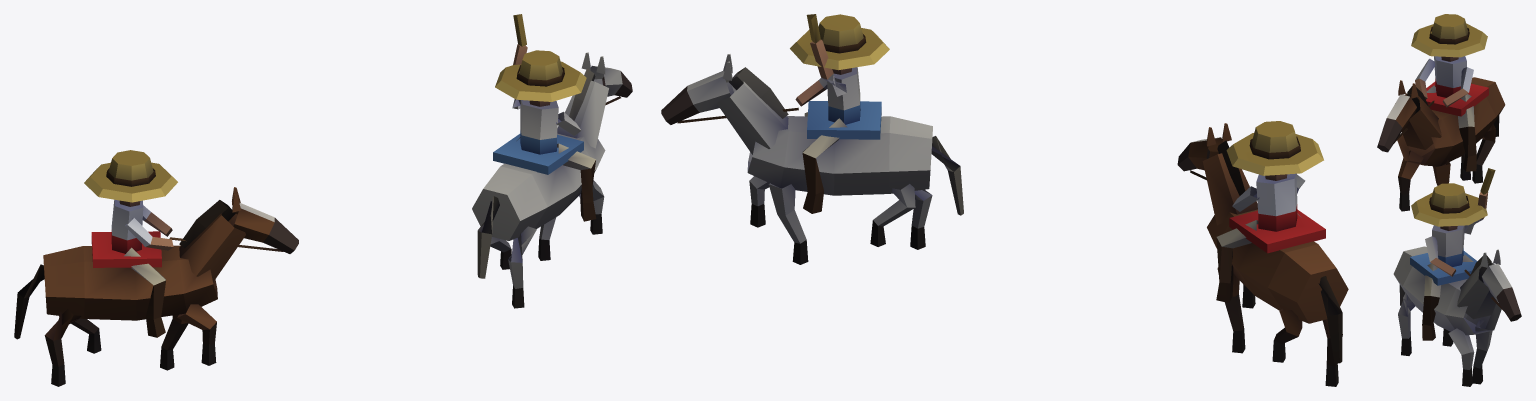
Rendered from llanero_caballo.glb.
The picture shows the model from 3 angles, left to right: view 1: azimuth 30°, elevation 25°; view 2: azimuth 150°, elevation 25°; view 3: azimuth 270°, elevation 25°; orthographic projection. The views are drawn at different scales.
Parts seen in each view (by area): view 1: llanero_a, llanero_b; view 2: llanero_b, llanero_a; view 3: llanero_b, llanero_a.
Boxes of the visible parts, left/top/right/bottom form: llanero_a: left=14, top=150, right=298, bottom=386; llanero_b: left=472, top=14, right=632, bottom=308; llanero_b: left=661, top=14, right=963, bottom=264; llanero_a: left=1177, top=121, right=1348, bottom=386; llanero_b: left=1393, top=168, right=1521, bottom=386; llanero_a: left=1377, top=14, right=1505, bottom=211.
Bounding box in the file's own units: 16.86 × 6.23 × 3.98.
